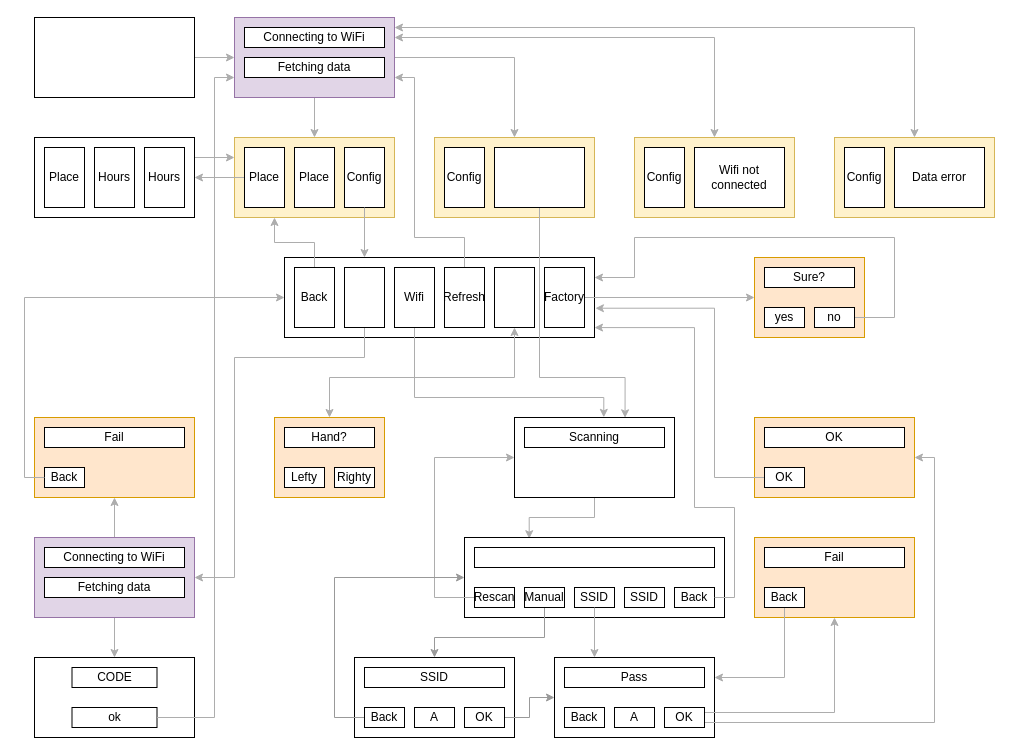
This 1012x755 diagram has some shape labels left out. Each missing label, with the centre of its shape:
"Handed" belongs at point (514, 297).
"Places" belongs at point (364, 297).
"Splash" belongs at point (114, 57).
"SSID?" belongs at point (594, 557).
"Wifi not configured" belongs at point (539, 177).
